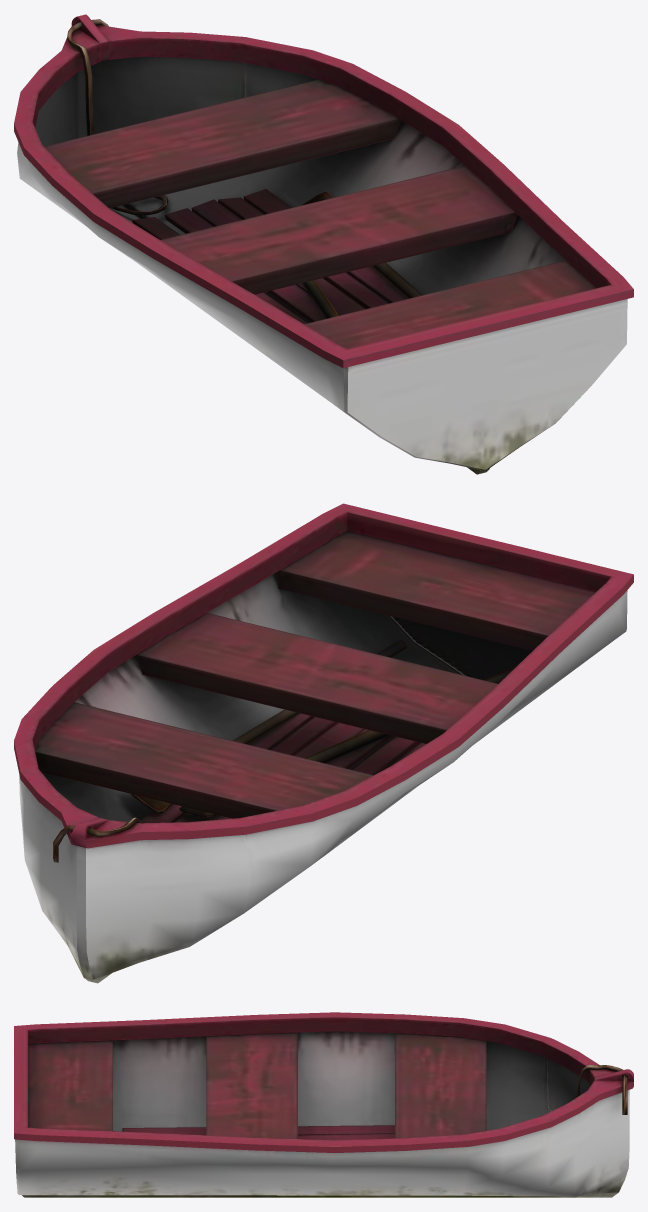
The model's file is barca.glb.
3 renders of one model, top to bottom at view 1: azimuth 30°, elevation 25°; view 2: azimuth 150°, elevation 25°; view 3: azimuth 270°, elevation 25°, orthographic. The views are drawn at different scales.
Visible parts, largest first — view 1: Box003; view 2: Box003; view 3: Box003.
Boxes of the visible parts, x1=… form: Box003: x1=14, y1=14, x2=633, y2=474; Box003: x1=14, y1=503, x2=633, y2=983; Box003: x1=14, y1=1012, x2=633, y2=1197.
Size of the model in its own units: 239 by 103 by 466.
1 material, 1 textured.
